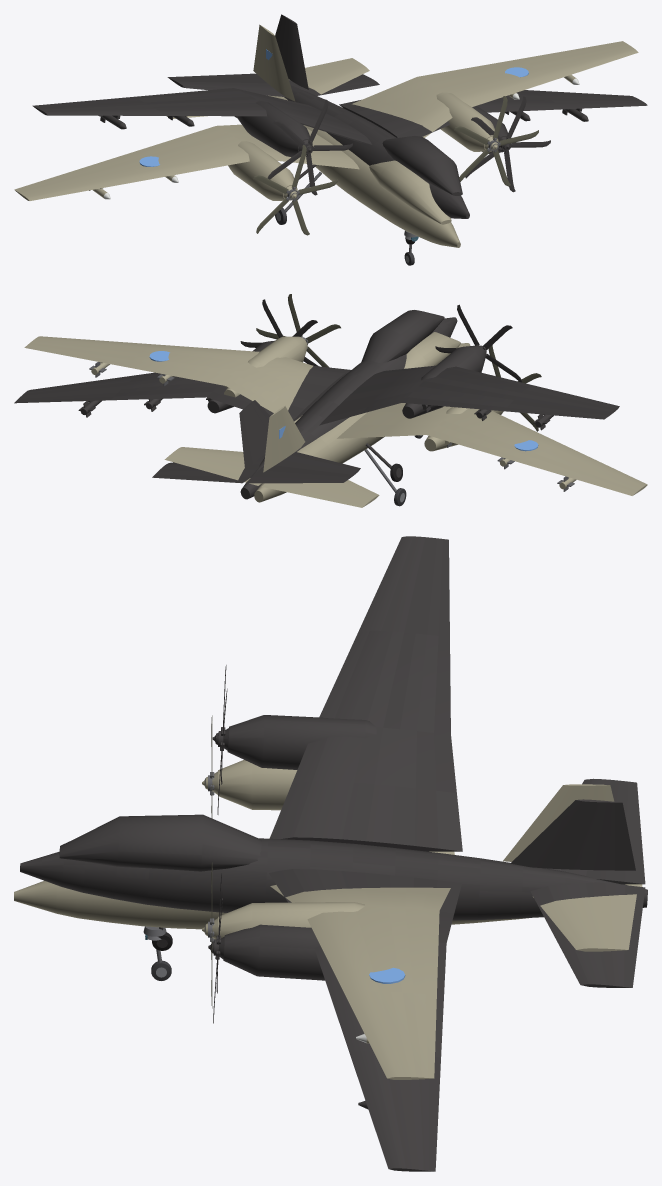
The model's file is drone__akinci_wing_loong.glb.
The picture shows the model from 3 angles, top to bottom: view 1: azimuth 30°, elevation 25°; view 2: azimuth 150°, elevation 25°; view 3: azimuth 270°, elevation 25°; orthographic projection. The views are drawn at different scales.
Visible parts, largest first — view 1: Fuselage_Mesh, Wreck, Propeller_Mesh, Propeller_1_Mesh; view 2: Wreck, Fuselage_Mesh, Propeller_1_Mesh, Propeller_Mesh; view 3: Wreck, Fuselage_Mesh.
Part boxes in pixels (left/top/right/bottom): Fuselage_Mesh: left=14, top=24, right=638, bottom=265; Wreck: left=32, top=14, right=647, bottom=244; Propeller_Mesh: left=253, top=145, right=337, bottom=235; Propeller_1_Mesh: left=454, top=96, right=538, bottom=186; Wreck: left=14, top=299, right=619, bottom=499; Fuselage_Mesh: left=24, top=332, right=647, bottom=507; Propeller_1_Mesh: left=256, top=294, right=340, bottom=367; Propeller_Mesh: left=488, top=345, right=541, bottom=431; Wreck: left=20, top=536, right=647, bottom=1171; Fuselage_Mesh: left=14, top=760, right=642, bottom=1079.
Size of what is drawn, in the model's own units: 20.33 by 5.17 by 12.07.
